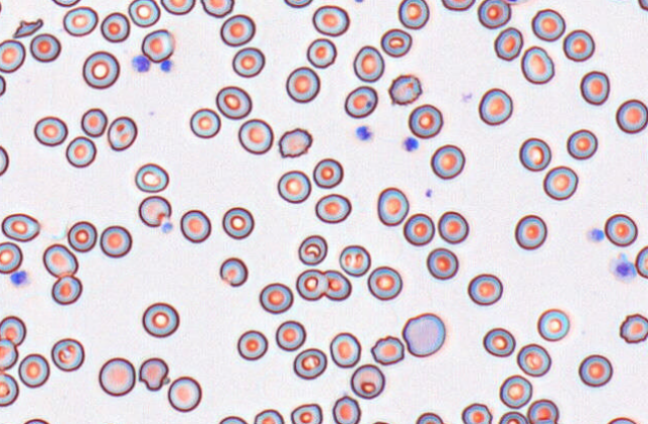PLT: (611, 258, 640, 283), (9, 269, 29, 288), (587, 228, 606, 246), (132, 55, 150, 73), (356, 124, 373, 141), (404, 136, 420, 154), (160, 222, 175, 234), (160, 60, 173, 72)
RBC: (98, 357, 135, 396), (82, 50, 119, 89), (141, 301, 179, 338), (520, 45, 554, 84), (237, 118, 273, 154), (167, 375, 202, 412), (285, 66, 320, 103), (478, 87, 512, 125), (377, 186, 409, 226), (350, 363, 385, 399), (42, 243, 78, 278), (407, 103, 443, 138), (542, 165, 578, 200), (215, 85, 252, 119), (367, 265, 402, 300), (430, 144, 465, 179), (516, 343, 551, 377), (219, 13, 255, 46), (615, 98, 648, 134), (514, 214, 547, 250), (312, 4, 349, 36), (352, 45, 384, 82), (1, 212, 40, 242), (277, 169, 311, 203), (141, 28, 174, 63), (578, 354, 613, 387), (329, 332, 361, 368), (499, 374, 532, 408), (531, 8, 565, 41), (518, 137, 551, 171), (344, 85, 378, 118), (51, 337, 84, 371), (604, 213, 638, 246), (18, 353, 50, 388), (258, 282, 293, 314), (467, 273, 502, 305), (314, 193, 351, 223), (562, 29, 595, 62), (221, 206, 254, 239), (99, 225, 132, 258), (388, 73, 422, 105), (293, 347, 327, 379), (437, 210, 469, 244), (179, 209, 211, 243), (579, 70, 610, 105), (134, 162, 169, 193), (62, 6, 98, 36), (107, 115, 137, 151), (426, 247, 458, 280), (537, 308, 569, 341), (278, 127, 312, 158), (231, 46, 265, 77), (403, 212, 434, 246), (33, 115, 67, 146), (493, 26, 523, 61), (295, 268, 327, 300), (338, 244, 370, 276), (566, 128, 598, 160), (65, 135, 96, 168), (370, 335, 404, 365), (236, 329, 268, 360), (189, 107, 221, 138), (482, 327, 515, 357), (477, 0, 511, 29), (275, 320, 306, 351), (51, 274, 82, 305), (312, 157, 343, 188), (29, 32, 61, 62), (67, 220, 97, 252), (297, 234, 327, 265), (306, 37, 336, 68), (100, 11, 130, 42), (397, 0, 429, 29), (380, 28, 412, 57), (219, 256, 248, 287), (127, 0, 160, 27), (0, 38, 25, 73), (619, 313, 648, 343), (323, 269, 351, 300), (332, 395, 361, 424), (526, 398, 559, 423), (80, 107, 107, 137), (0, 315, 26, 346), (0, 241, 22, 273), (461, 402, 492, 424), (290, 403, 322, 424), (0, 372, 19, 407), (200, 0, 234, 17), (0, 338, 18, 370), (160, 0, 195, 15), (253, 408, 284, 424), (634, 244, 648, 279), (415, 411, 444, 424), (441, 0, 475, 11), (497, 411, 528, 423), (0, 144, 9, 176), (604, 416, 639, 424), (217, 415, 248, 424), (283, 0, 313, 8), (50, 0, 81, 7), (21, 417, 51, 424), (0, 73, 6, 97), (637, 0, 648, 11), (500, 0, 529, 4), (368, 420, 393, 424), (96, 421, 125, 424), (604, 0, 632, 3), (0, 0, 3, 18)
Schistocyte: (403, 313, 447, 359), (138, 196, 172, 227), (138, 358, 169, 390), (11, 19, 44, 38)
